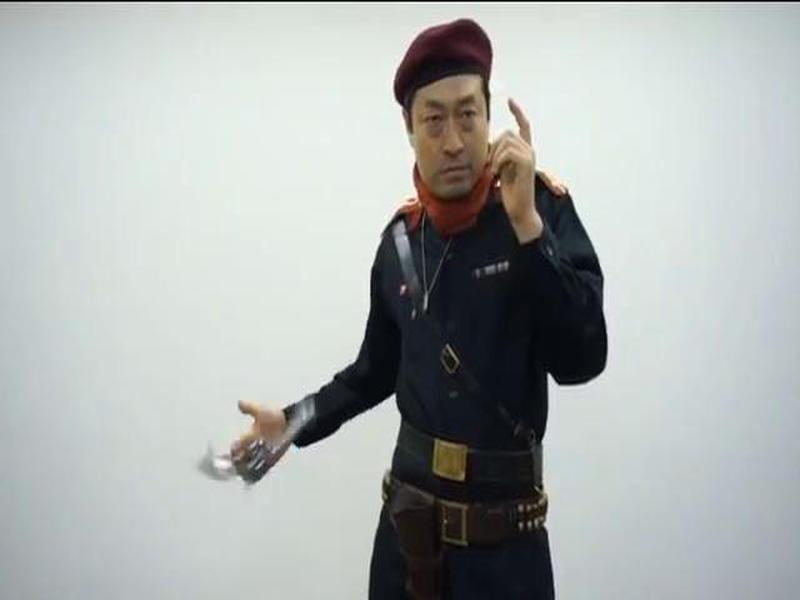Revolver: (195, 395, 328, 495)
